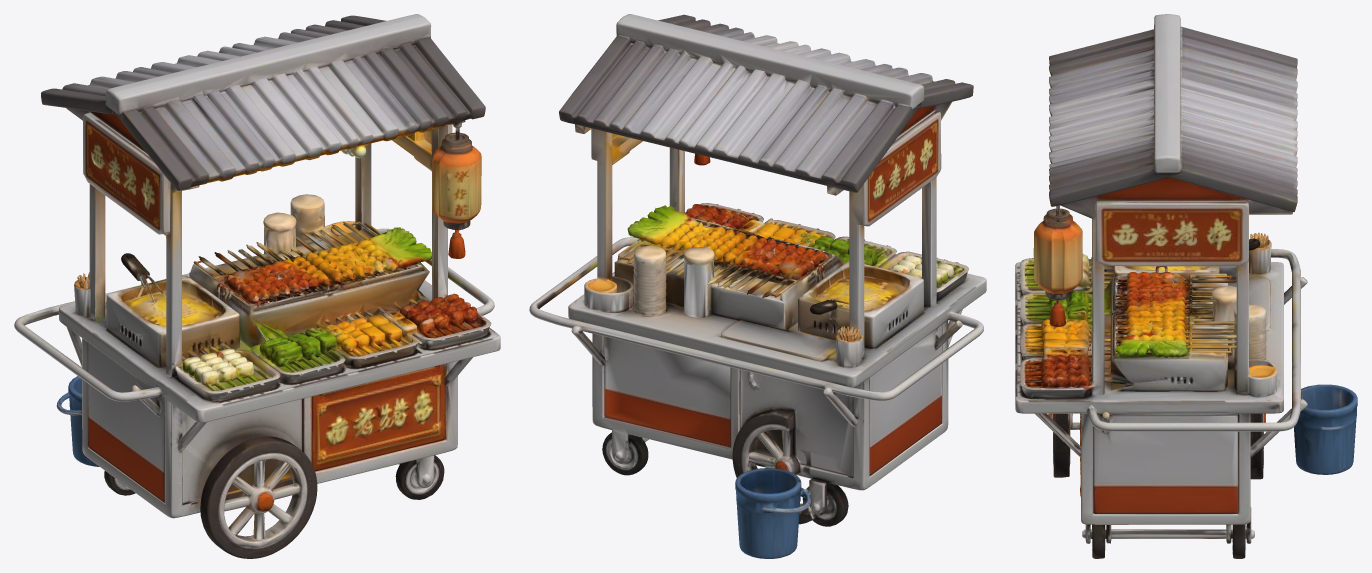
File: zhachuantan.glb
3 views of the same model, side by side, from view 1: azimuth 30°, elevation 25°; view 2: azimuth 150°, elevation 25°; view 3: azimuth 270°, elevation 25° (orthographic). The views are drawn at different scales.
Parts seen in each view (by area): view 1: node_0; view 2: node_0; view 3: node_0.
Part boxes in pixels (box(x1,y1,x2,y2)): node_0: box(14, 14, 500, 558); node_0: box(529, 14, 986, 558); node_0: box(1015, 14, 1357, 558).
Bounding box in the file's own units: 0.8458 × 0.9314 × 0.6899.
1 material, 1 textured.
